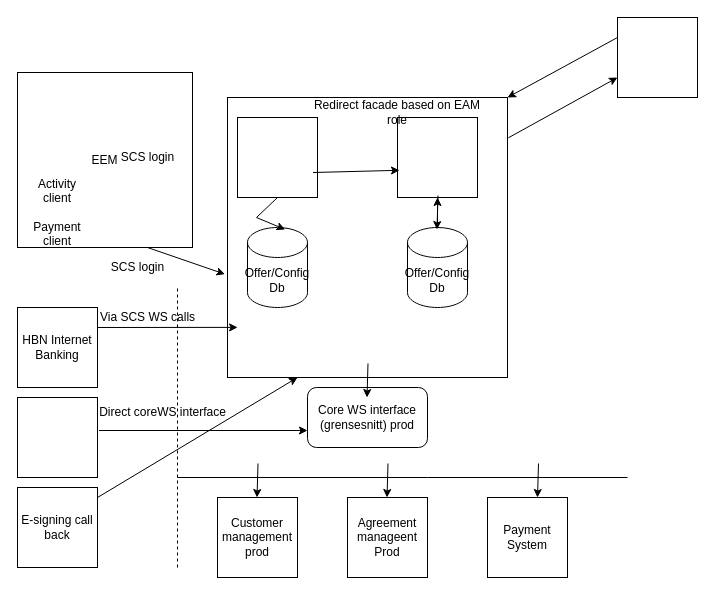
The diagram is 715 pixels wide and 595 high, and some of its shapes have lost their labels. Here are the shapes that lost their labels. From the top down, the centre of each, then its label:
the point at 657,57: EAM Pilot user
the point at 277,157: SCS Prod
the point at 437,157: SCS Pilot
the point at 57,437: SPB1 Internet Banking
